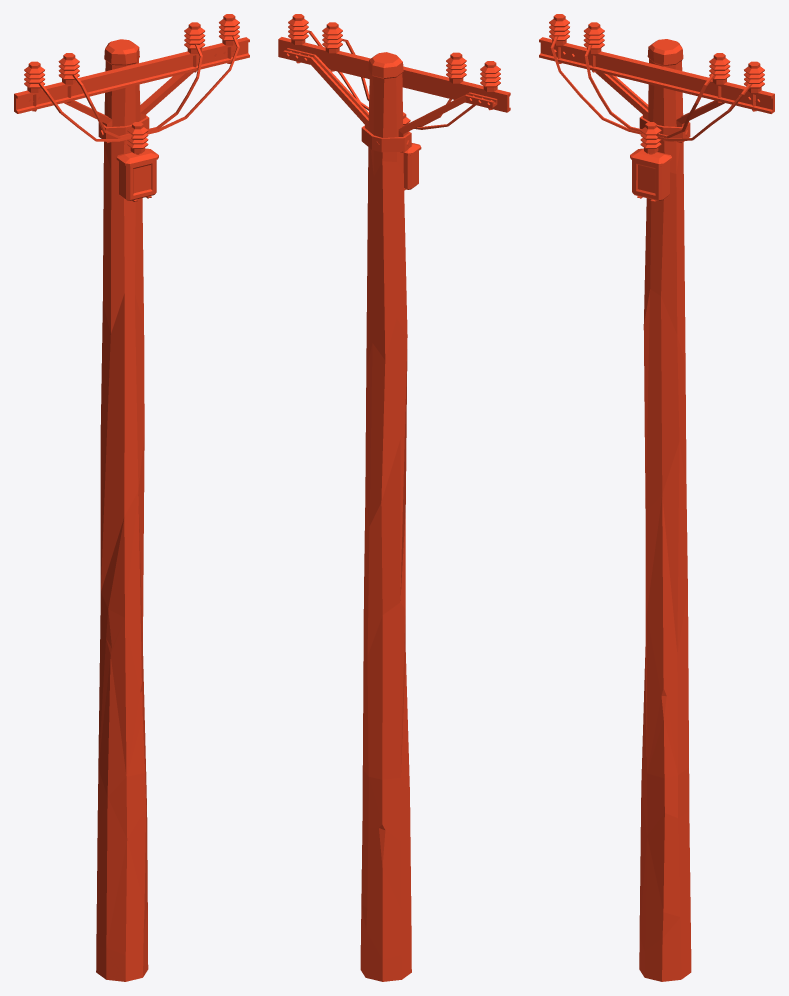
File: SM_Pole_Electric_B_City.fbx
The picture shows the model from 3 angles, left to right: view 1: azimuth 30°, elevation 25°; view 2: azimuth 150°, elevation 25°; view 3: azimuth 330°, elevation 25°; orthographic projection.
Visible parts, largest first — view 1: SM_Pole_Electric_B_City; view 2: SM_Pole_Electric_B_City; view 3: SM_Pole_Electric_B_City.
Part boxes in pixels (x1,y1,x2,y2): SM_Pole_Electric_B_City: (14,14,249,981); SM_Pole_Electric_B_City: (278,14,510,981); SM_Pole_Electric_B_City: (539,14,774,981).
Bounding box in the file's own units: 1.78 × 6.88 × 0.466.
